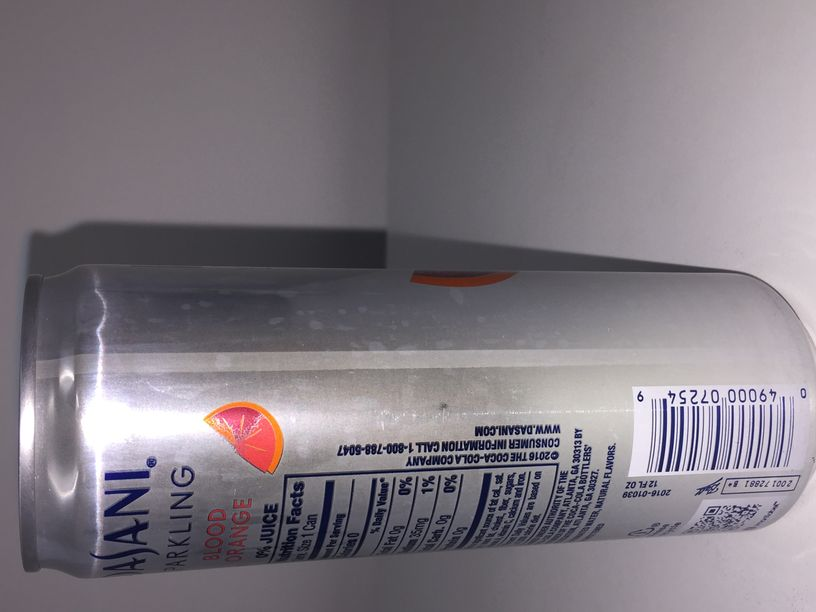blood_orange: (16, 264, 816, 580)
